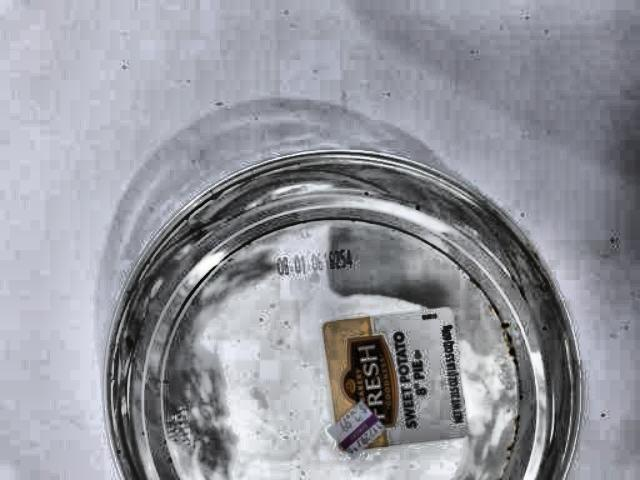Plastic: (63, 131, 609, 480)
